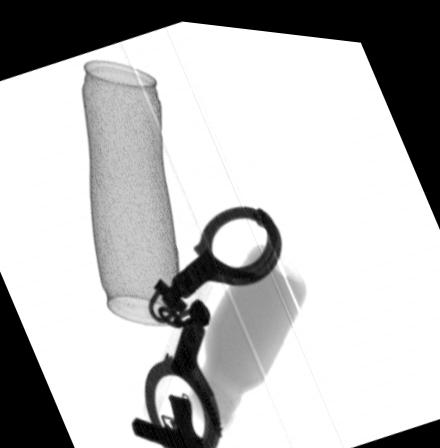Gun: (128, 393, 204, 448)
HandCuffs: (140, 202, 282, 448)
